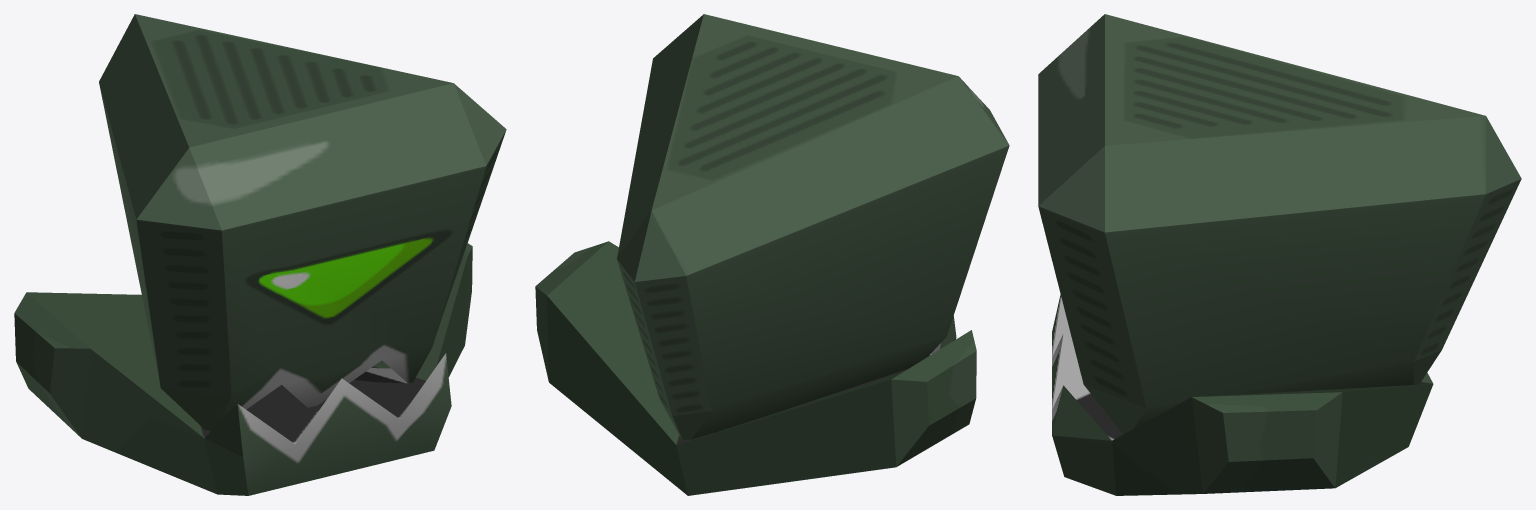
Rendered from Enemy2.FBX.
3 renders of one model, left to right at view 1: azimuth 30°, elevation 25°; view 2: azimuth 150°, elevation 25°; view 3: azimuth 270°, elevation 25°, orthographic. The views are drawn at different scales.
Parts seen in each view (by area): view 1: EnemyHead, EnemyBase; view 2: EnemyHead, EnemyBase; view 3: EnemyHead, EnemyBase.
Part boxes in pixels (<box>): EnemyHead: <box>99,14,506,430</box>; EnemyBase: <box>14,243,472,495</box>; EnemyHead: <box>617,14,1009,440</box>; EnemyBase: <box>535,241,976,495</box>; EnemyHead: <box>1038,14,1521,434</box>; EnemyBase: <box>1052,295,1433,495</box>.
Bounding box in the file's own units: 95.05 × 77.29 × 92.27.
1 material, 1 textured.
